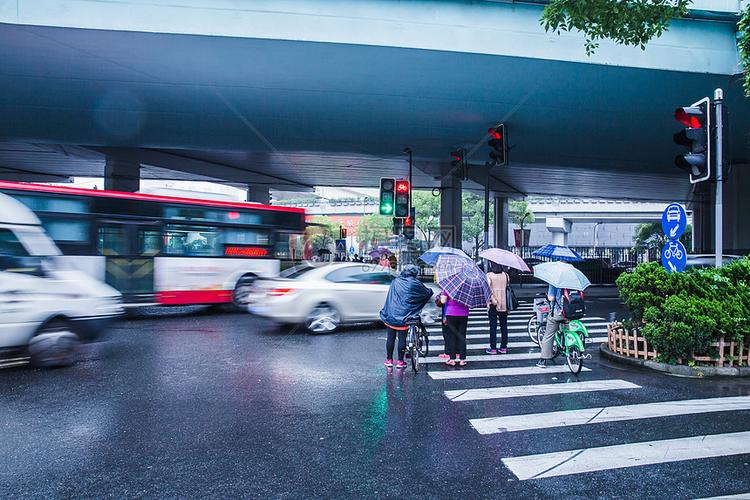bicycle: (529, 307, 589, 373), (402, 315, 430, 373)
bus: (2, 180, 310, 318)
car: (234, 261, 427, 334)
person: (378, 264, 433, 368), (534, 271, 584, 367), (437, 257, 471, 366), (485, 247, 516, 355)
sign: (660, 203, 692, 272), (334, 239, 347, 252), (348, 246, 355, 253)
traffic light: (672, 101, 709, 183), (486, 125, 506, 166), (393, 178, 412, 217), (378, 178, 397, 216), (340, 227, 347, 239)
truck: (1, 193, 125, 369)
